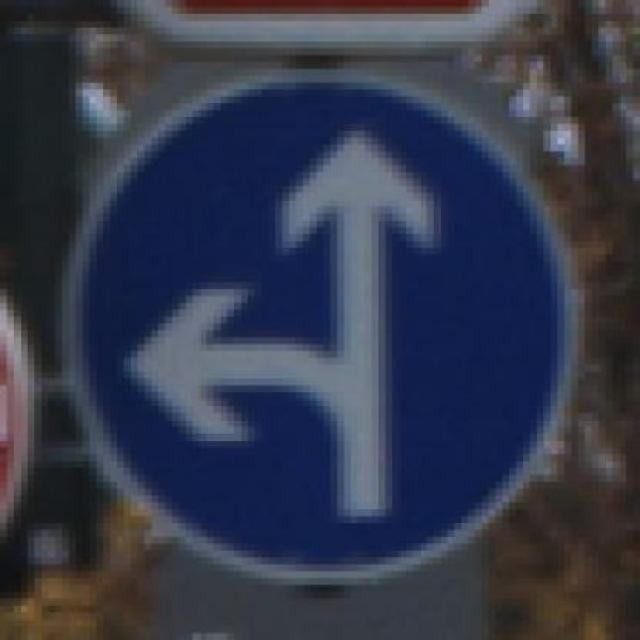Go straight or turn left: (28, 69, 606, 592)
